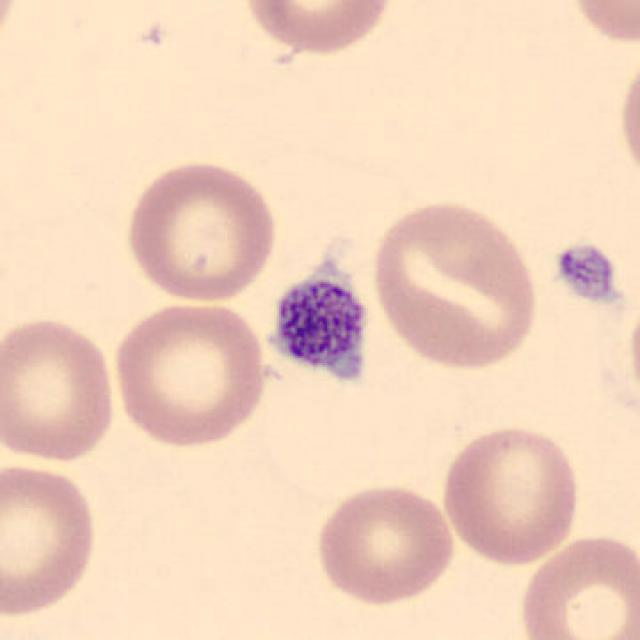Platelets: (260, 261, 375, 391), (549, 238, 624, 309)
RBC: (366, 194, 544, 374), (108, 296, 270, 452), (119, 155, 283, 305), (437, 421, 583, 568), (311, 480, 459, 608), (0, 312, 121, 467), (0, 458, 101, 622), (513, 530, 638, 640), (236, 0, 396, 56), (613, 42, 640, 194), (563, 0, 640, 47), (626, 282, 640, 430), (0, 0, 23, 63)
